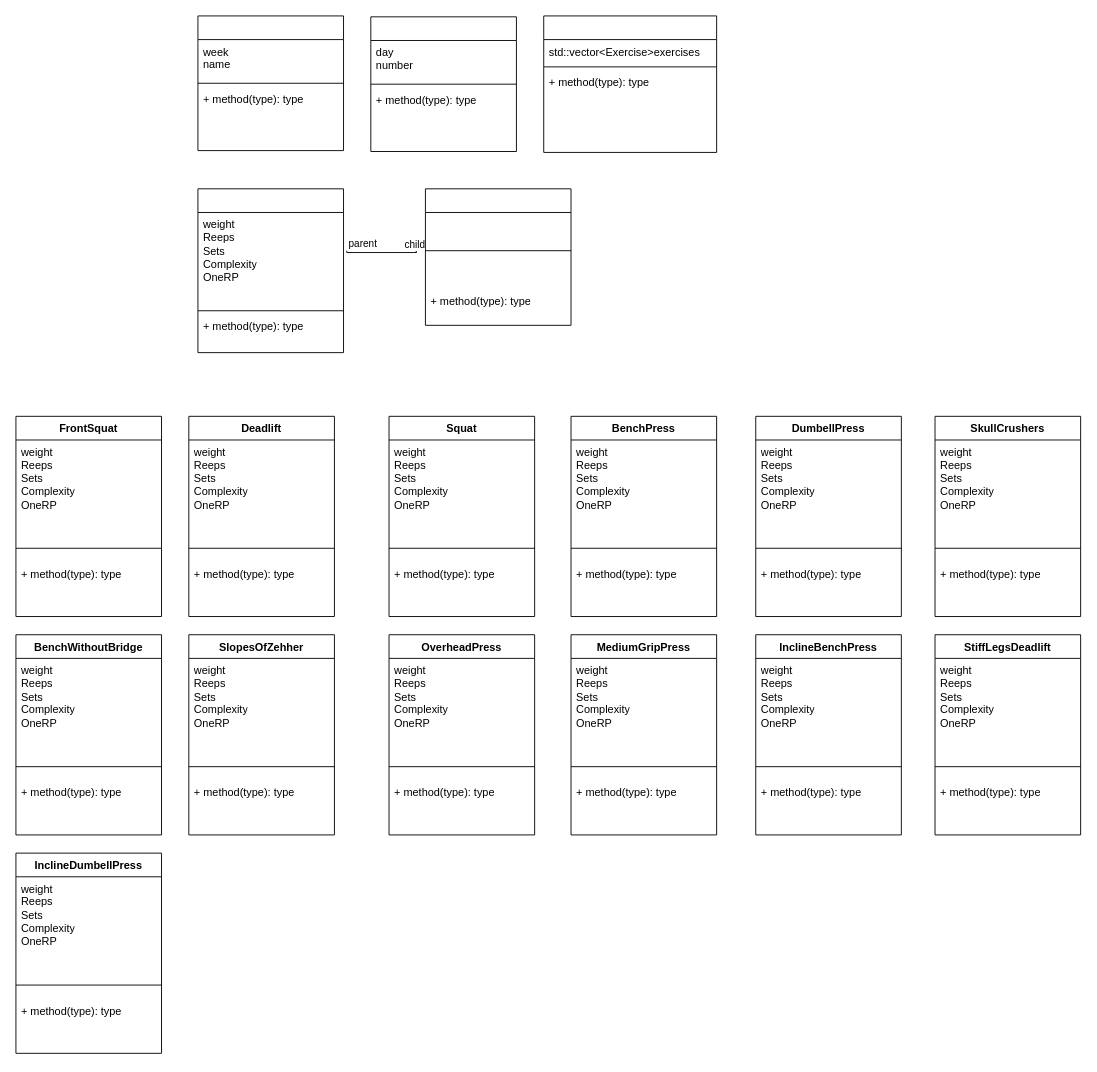
This 1097x1072 diagram has some shape labels left out. The box of each missing label's shape, as (x1, y1, x2, y2) in pixels:
Cycle: (197, 15, 344, 151)
Day: (543, 15, 717, 152)
Exercise: (197, 188, 344, 353)
PercentageCount: (425, 188, 571, 325)
Week: (370, 16, 516, 152)
